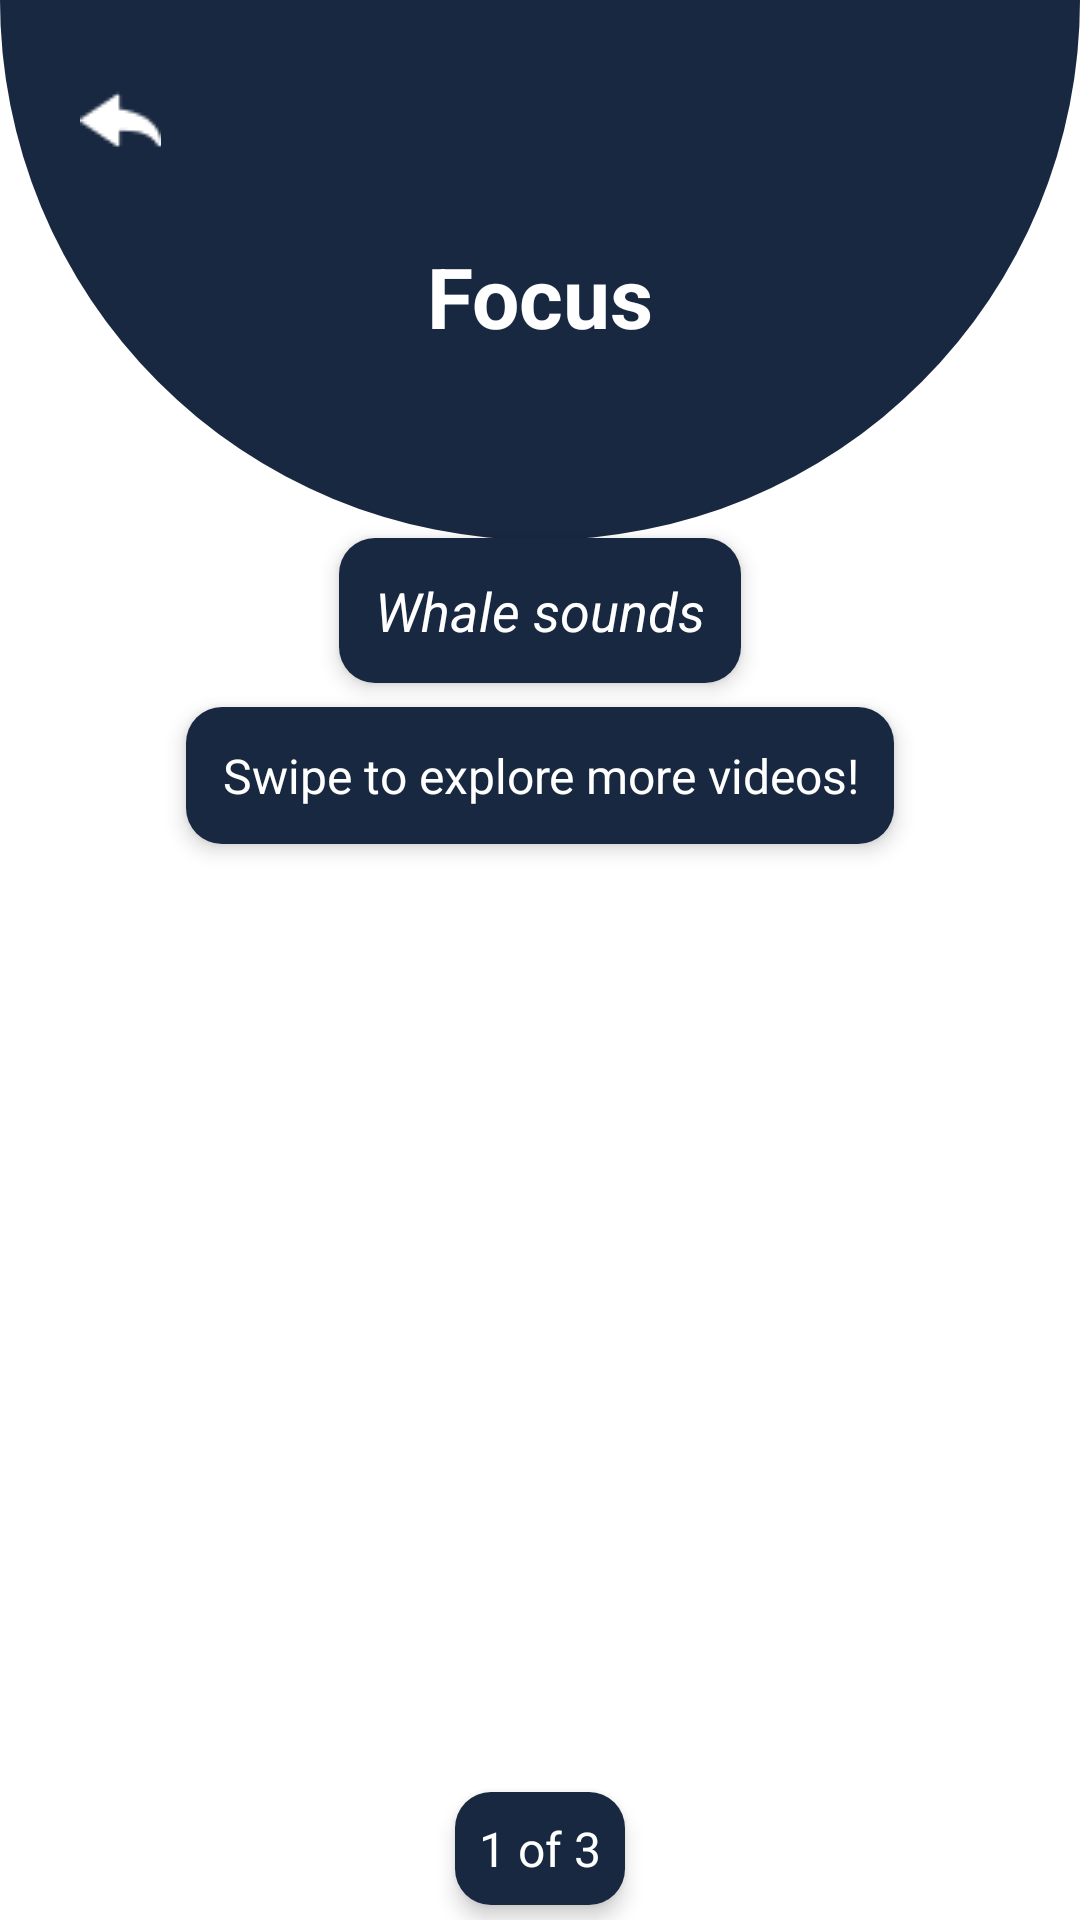

Icons on this 1080 x 1920 Android screen, each with the point to tap as [x,y]:
Back Button: [120,120]
